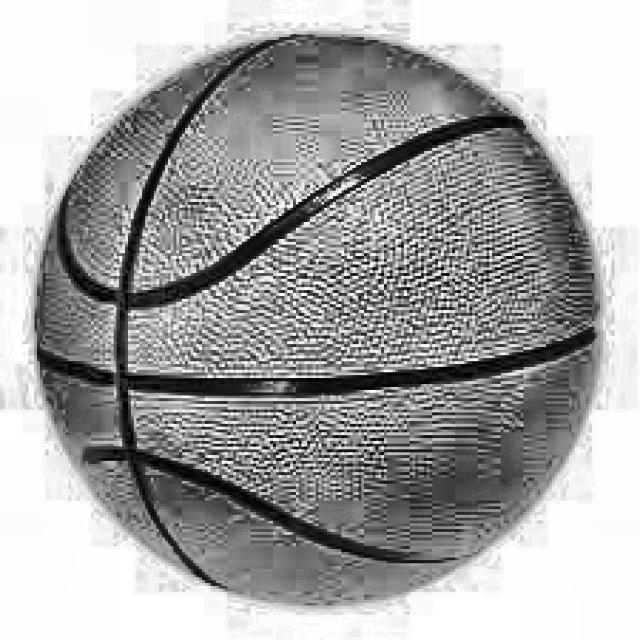Basketball: (34, 34, 603, 604)
